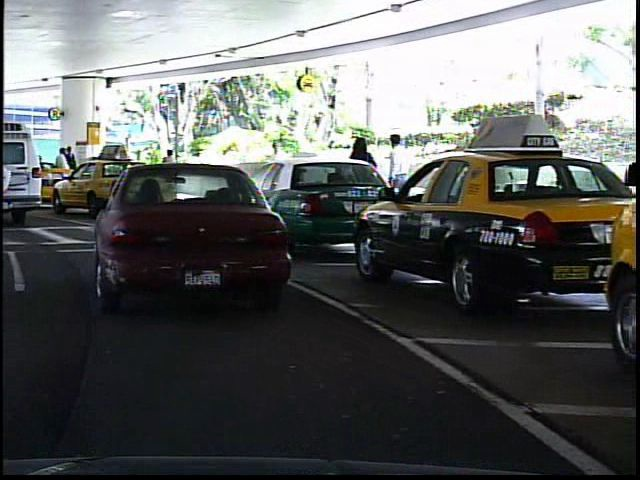person: (340, 130, 375, 230), (381, 127, 414, 229), (261, 135, 289, 208), (153, 144, 179, 196), (50, 146, 69, 198), (61, 144, 77, 195)
